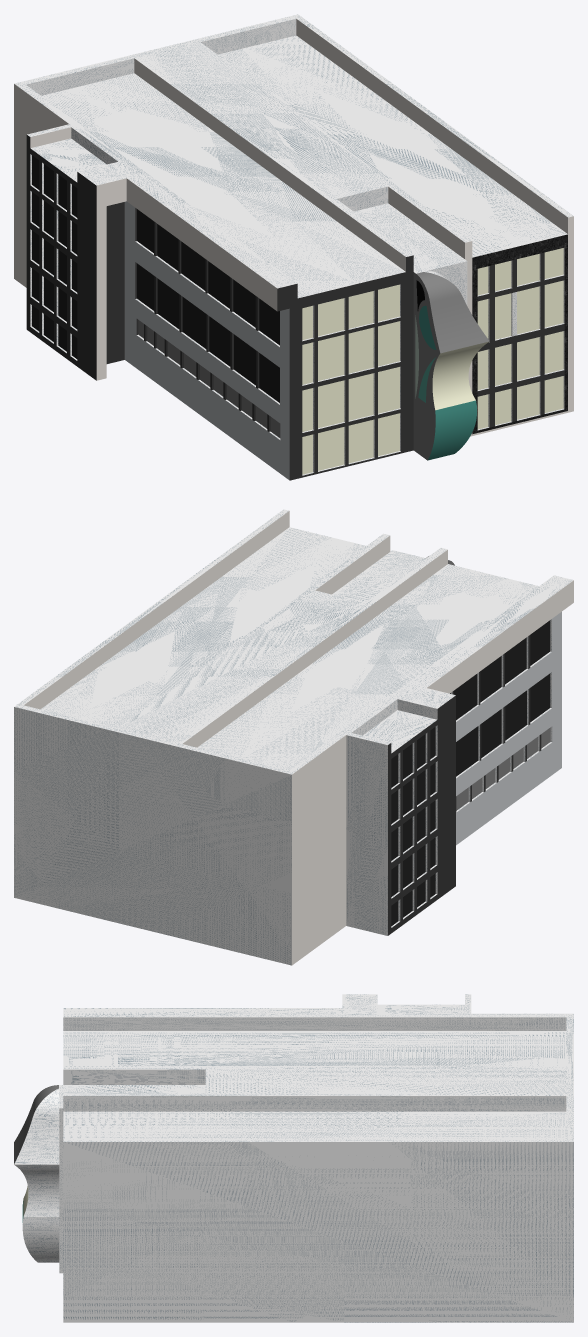
File: museum.obj
The picture shows the model from 3 angles, top to bottom: view 1: azimuth 30°, elevation 25°; view 2: azimuth 150°, elevation 25°; view 3: azimuth 270°, elevation 25°; orthographic projection. The views are drawn at different scales.
Parts seen in each view (by area): view 1: SketchUp.002; view 2: SketchUp.002; view 3: SketchUp.002.
Part boxes in pixels (left/top/right/bottom): SketchUp.002: left=14, top=14, right=573, bottom=480; SketchUp.002: left=14, top=509, right=573, bottom=965; SketchUp.002: left=14, top=994, right=573, bottom=1322.
Bounding box in the file's own units: 1.84 × 1.05 × 2.95.
Materials: 13 (1 with a texture image).
